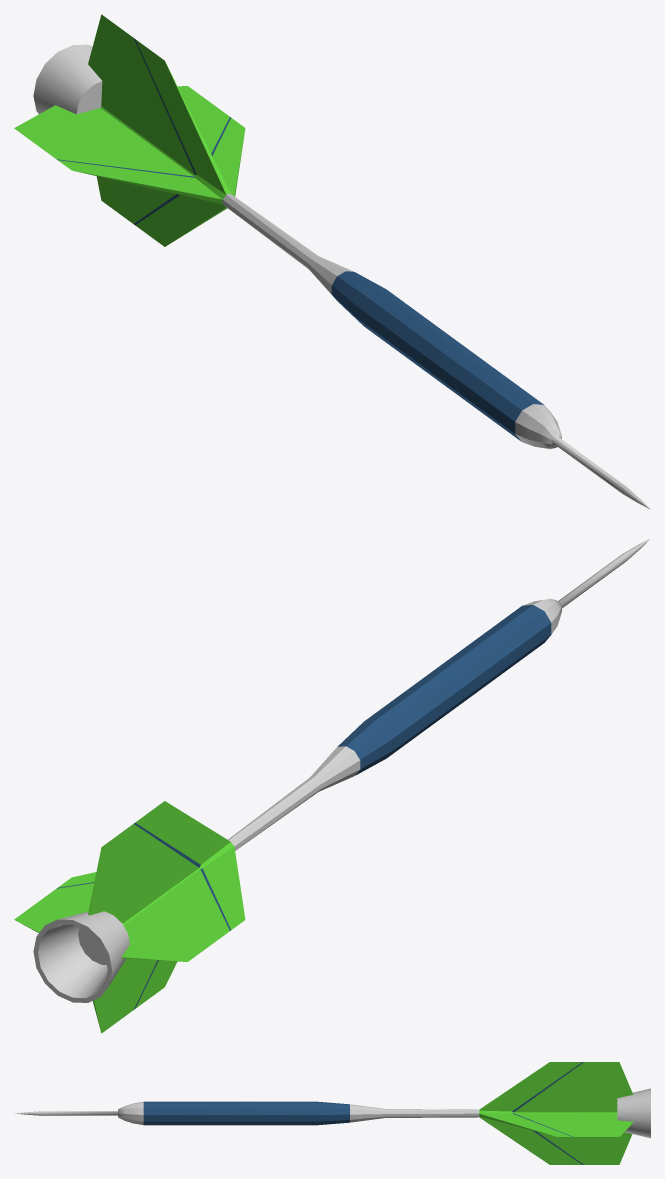
Rendered from dart 1.fbx.
3 views of the same model, one above another, from view 1: azimuth 30°, elevation 25°; view 2: azimuth 150°, elevation 25°; view 3: azimuth 270°, elevation 25° (orthographic). The views are drawn at different scales.
Parts seen in each view (by area): view 1: dart, booster; view 2: dart, booster; view 3: dart, booster.
Part boxes in pixels (x1,y1,x2,y2): dart: [14, 14, 650, 509]; booster: [33, 44, 102, 114]; dart: [14, 538, 650, 1033]; booster: [33, 911, 129, 1002]; dart: [14, 1062, 633, 1164]; booster: [617, 1088, 650, 1138].
Size of the model in its own units: 1.82 by 1.86 by 10.46.
